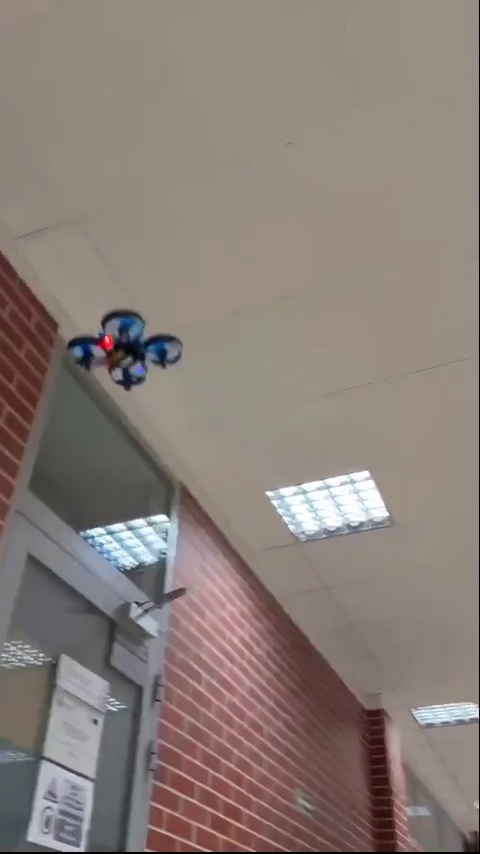drone: (68, 313, 183, 394)
